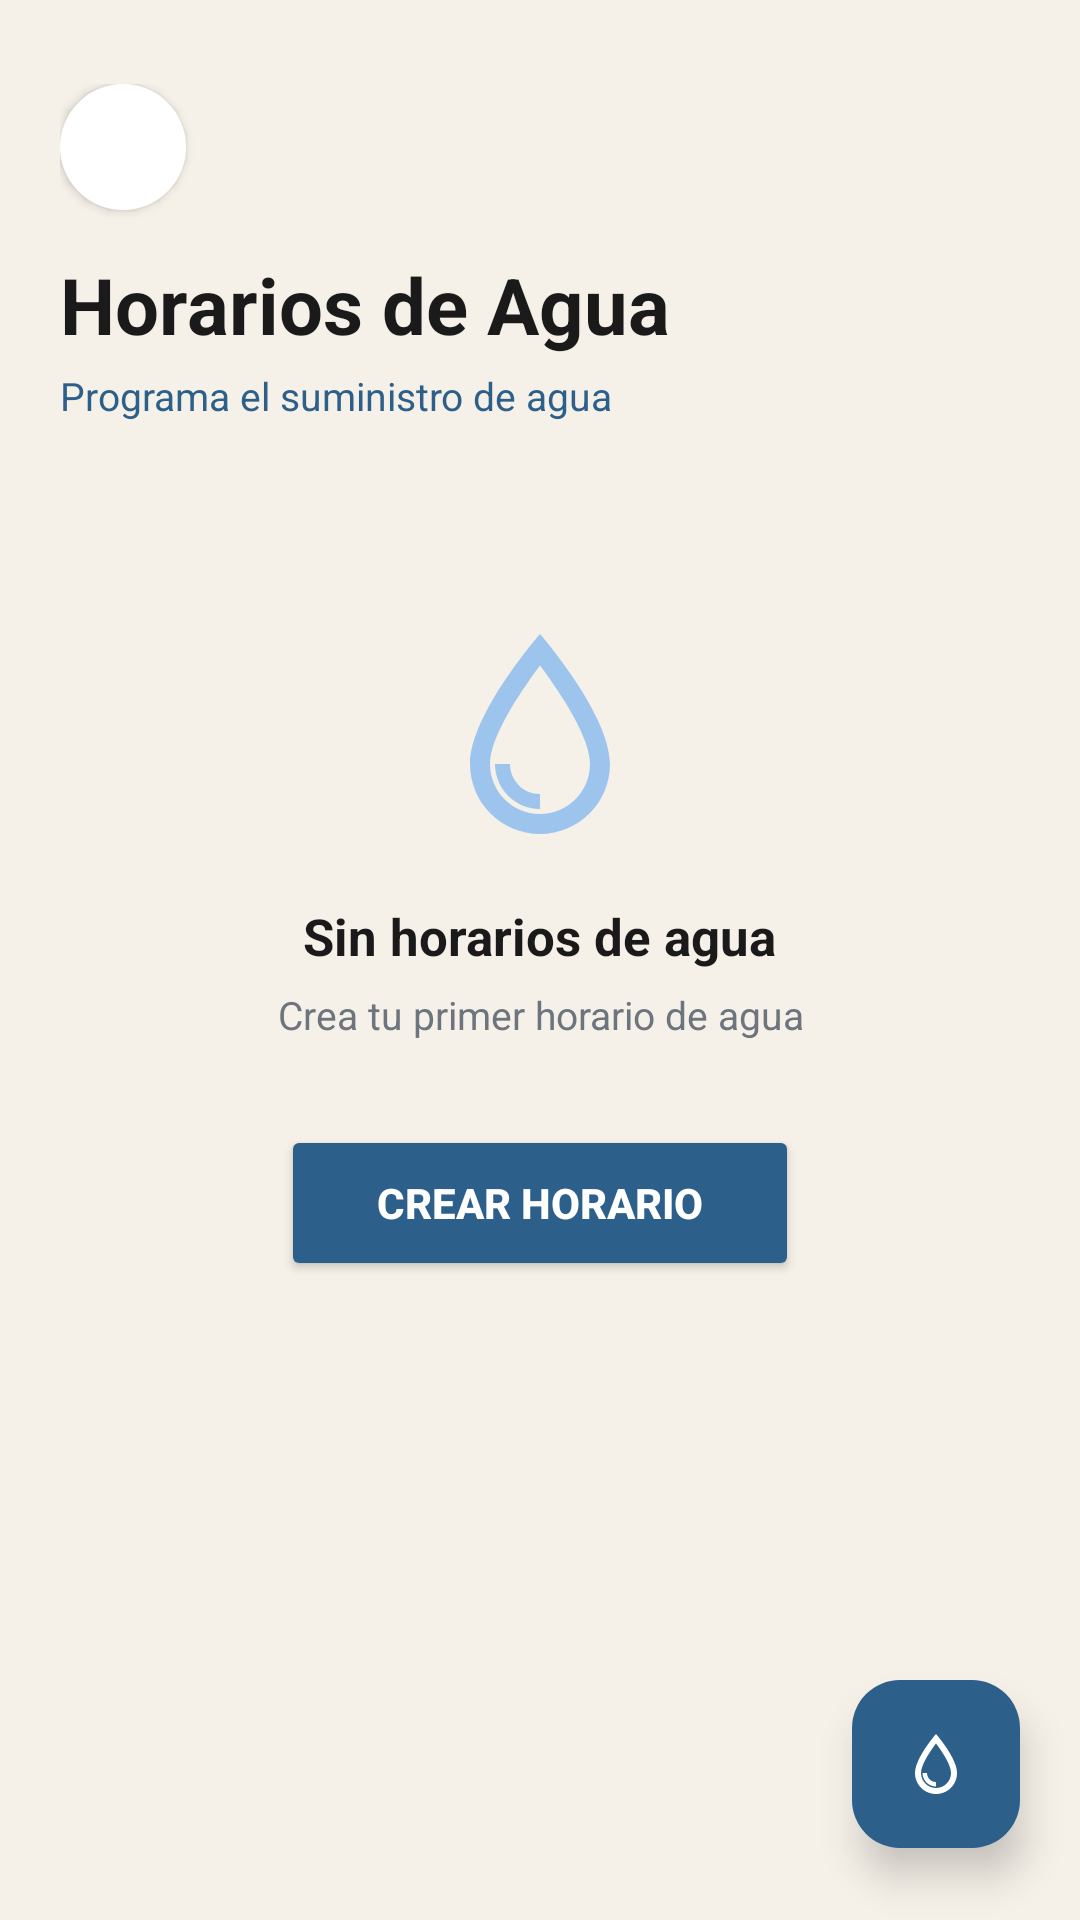

Icons on this 1080px x 1920px Android screen, each with its box as (x1, y1, x2, y2):
Dispensar agua ahora: (852, 1680, 1020, 1848)
water: (470, 634, 610, 834)
